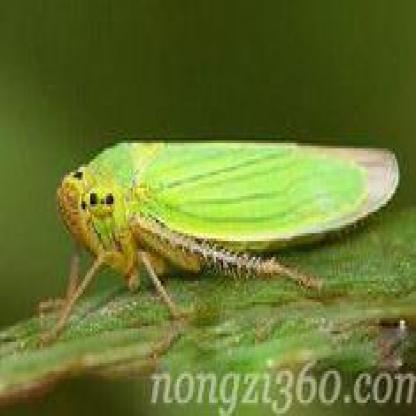Green-Leafhopper: (32, 132, 403, 352)
